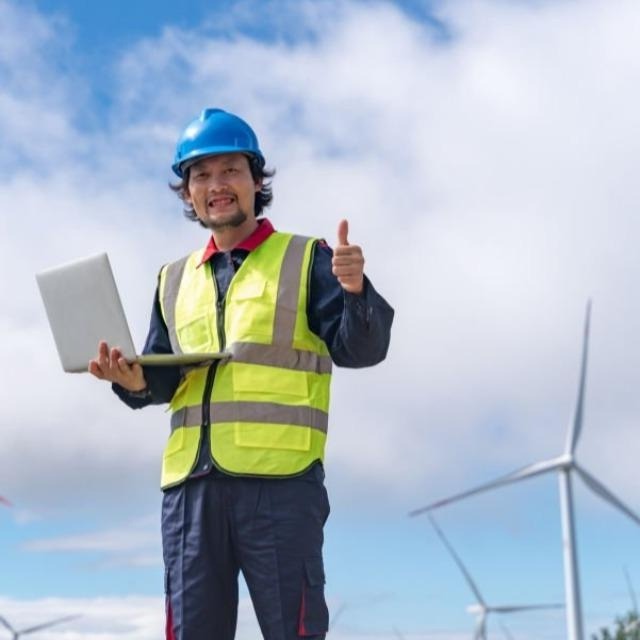Con_Casco: (169, 107, 263, 231)
Con_Chaleco: (150, 233, 327, 493)
